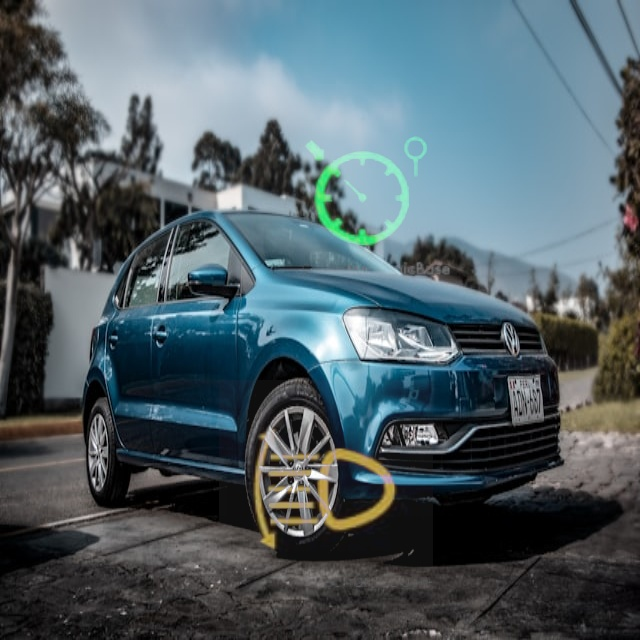symbol: (219, 380, 433, 594), (274, 101, 457, 284)
